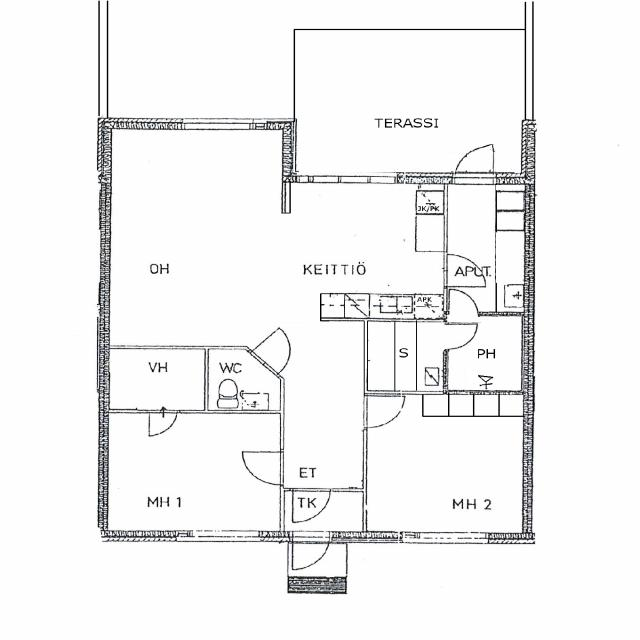door: (250, 328, 304, 375), (455, 138, 493, 183), (293, 533, 329, 574), (241, 452, 284, 485), (364, 395, 406, 428), (444, 254, 486, 286), (294, 488, 330, 522), (444, 324, 476, 349), (149, 410, 177, 438), (449, 288, 477, 316)
